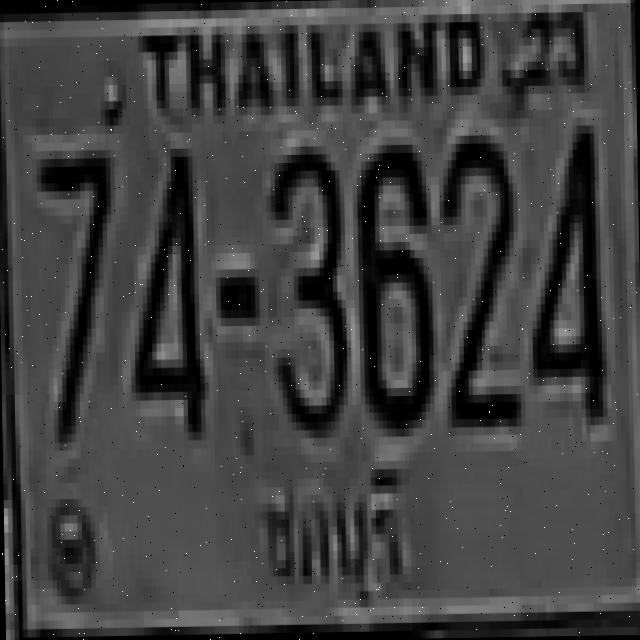2: (440, 126, 514, 419)
3: (270, 137, 344, 430)
4: (524, 116, 603, 418), (127, 140, 201, 432)
6: (352, 136, 431, 429)
7: (34, 146, 112, 438)
Chonburi: (249, 450, 414, 616)
